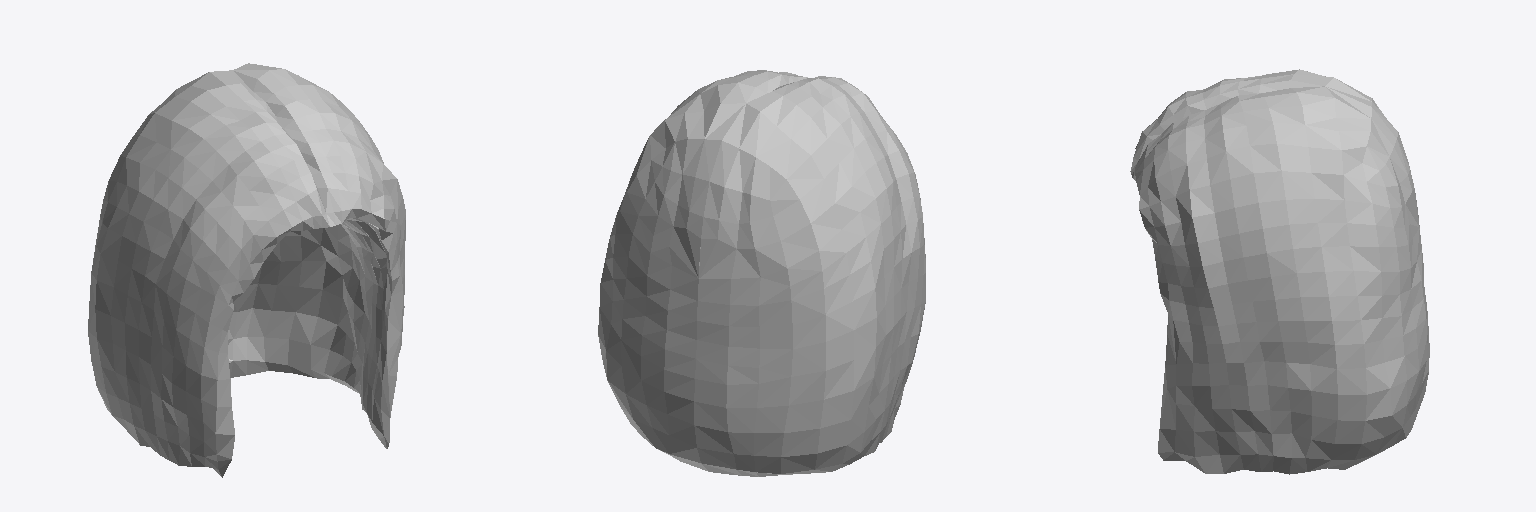
Rendered from hair3.obj.
3 renders of one model, left to right at view 1: azimuth 30°, elevation 25°; view 2: azimuth 150°, elevation 25°; view 3: azimuth 270°, elevation 25°, orthographic.
Parts seen in each view (by area): view 1: Lowpoly; view 2: Lowpoly; view 3: Lowpoly.
Boxes of the visible parts, <box> form: Lowpoly: <box>88,63,405,477</box>; Lowpoly: <box>598,70,925,476</box>; Lowpoly: <box>1130,69,1429,474</box>.
Size of the model in its own units: 1.44 by 1.78 by 1.39.